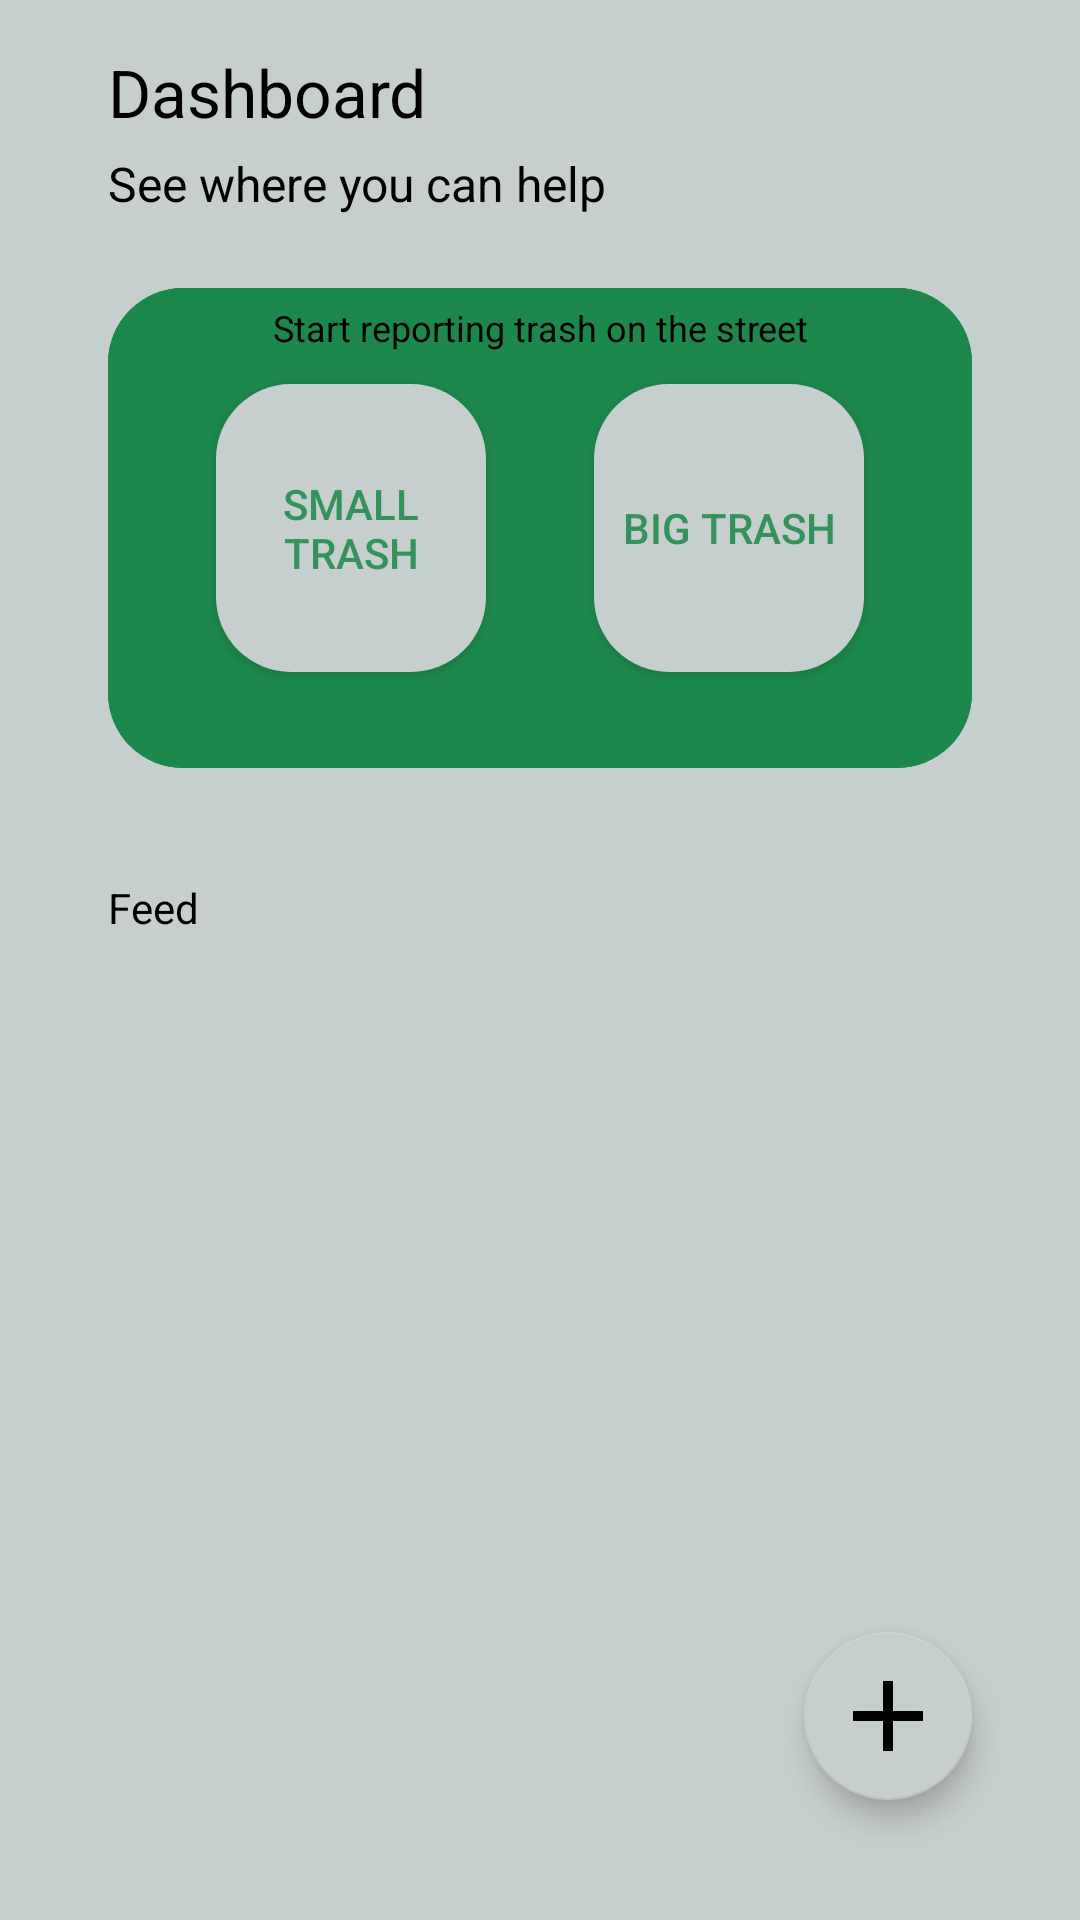

Point at icon controls on the screen. Image size 1080px×1920px, points as (x=x, y=y).
plus: (x=871, y=1723)
